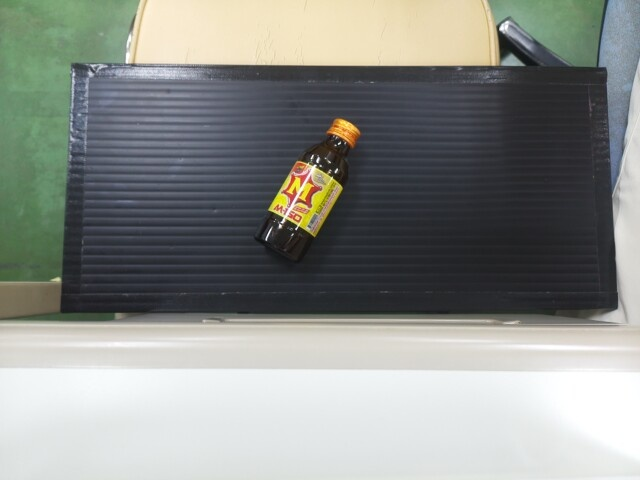glass_bottle: (254, 119, 359, 263)
